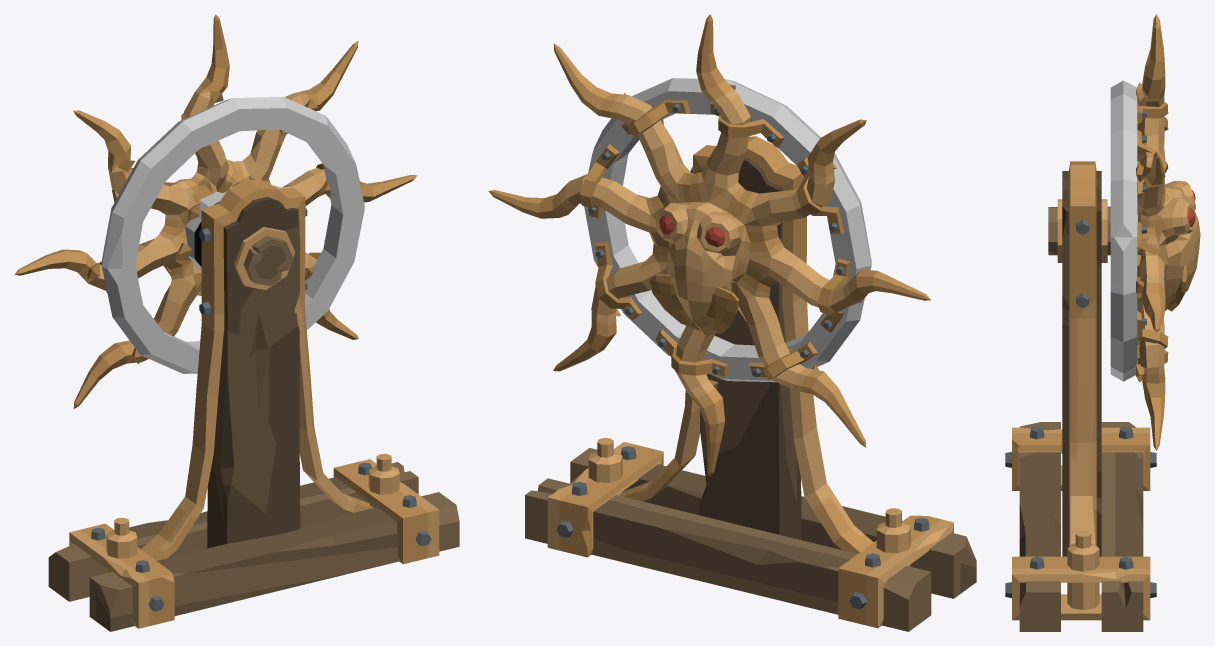
File: SM_Veh_Helm_03.fbx
3 views of the same model, side by side, from view 1: azimuth 30°, elevation 25°; view 2: azimuth 150°, elevation 25°; view 3: azimuth 270°, elevation 25° (orthographic). The views are drawn at different scales.
Visible parts, largest first — view 1: SM_Veh_Helm_03; view 2: SM_Veh_Helm_03; view 3: SM_Veh_Helm_03.
Part boxes in pixels (x1,y1,x2,y2): SM_Veh_Helm_03: (14,14,459,631); SM_Veh_Helm_03: (488,14,976,631); SM_Veh_Helm_03: (1005,14,1200,631).
Bounding box in the file's own units: 132 × 164 × 55.22.
